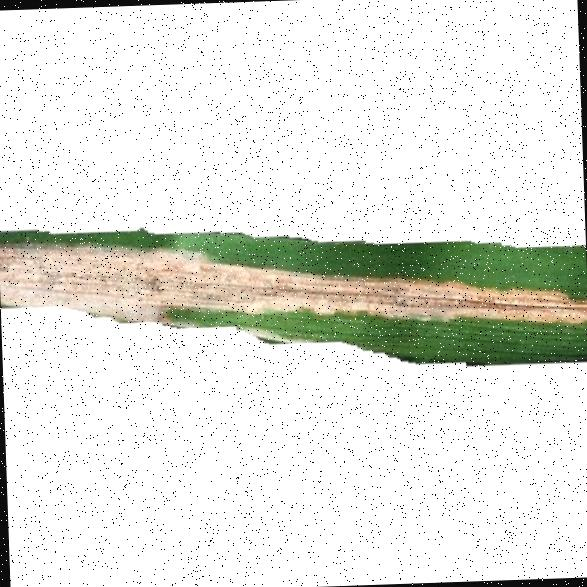Bacteria_Leaf_Blight: (0, 229, 587, 355)
